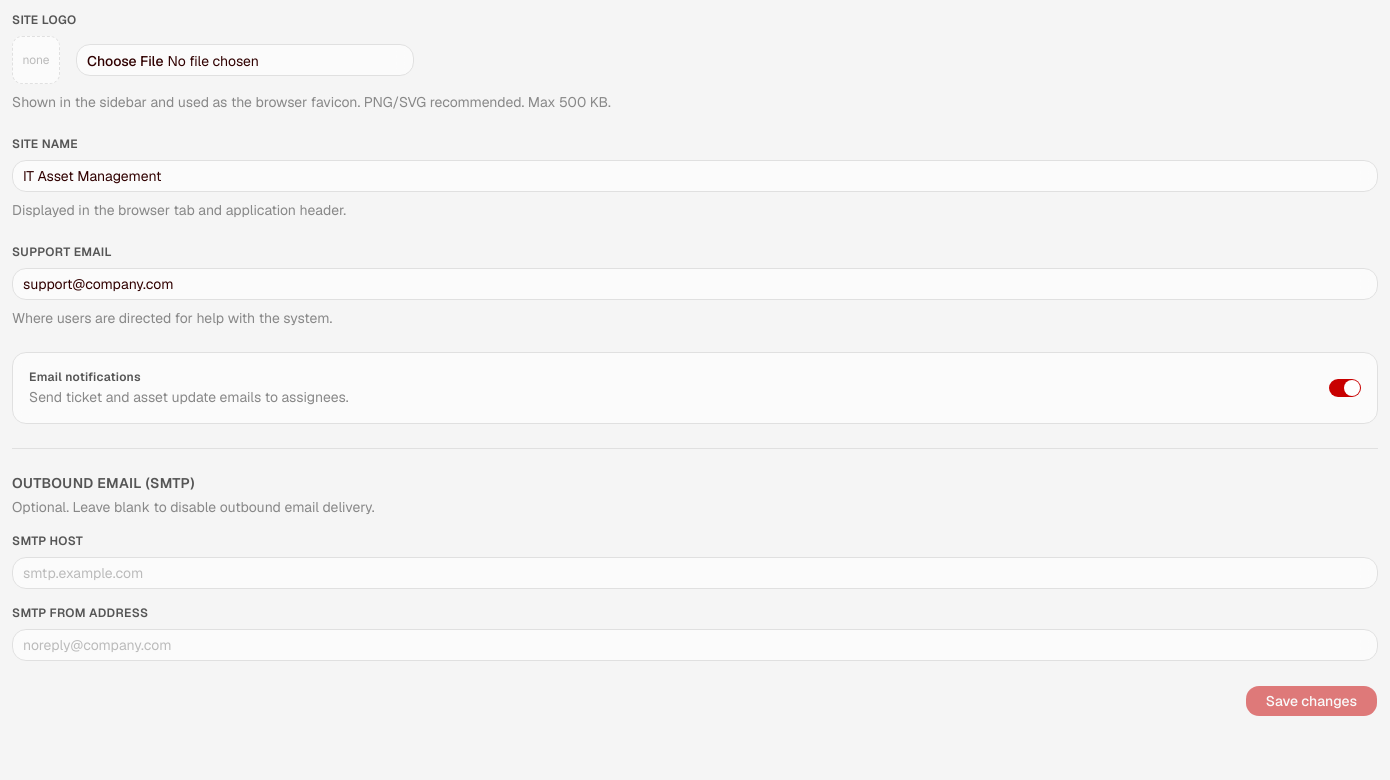
SettingsForm › disables the submit button until a field is changed
This screenshot has width=1390, height=780.
Expected: the button "Save changes" is disabled, left=1245, top=685, right=1378, bottom=717
Type "Updated" into the field labelled "Site name". click: (695, 176)
box: left=12, top=160, right=1378, bottom=192
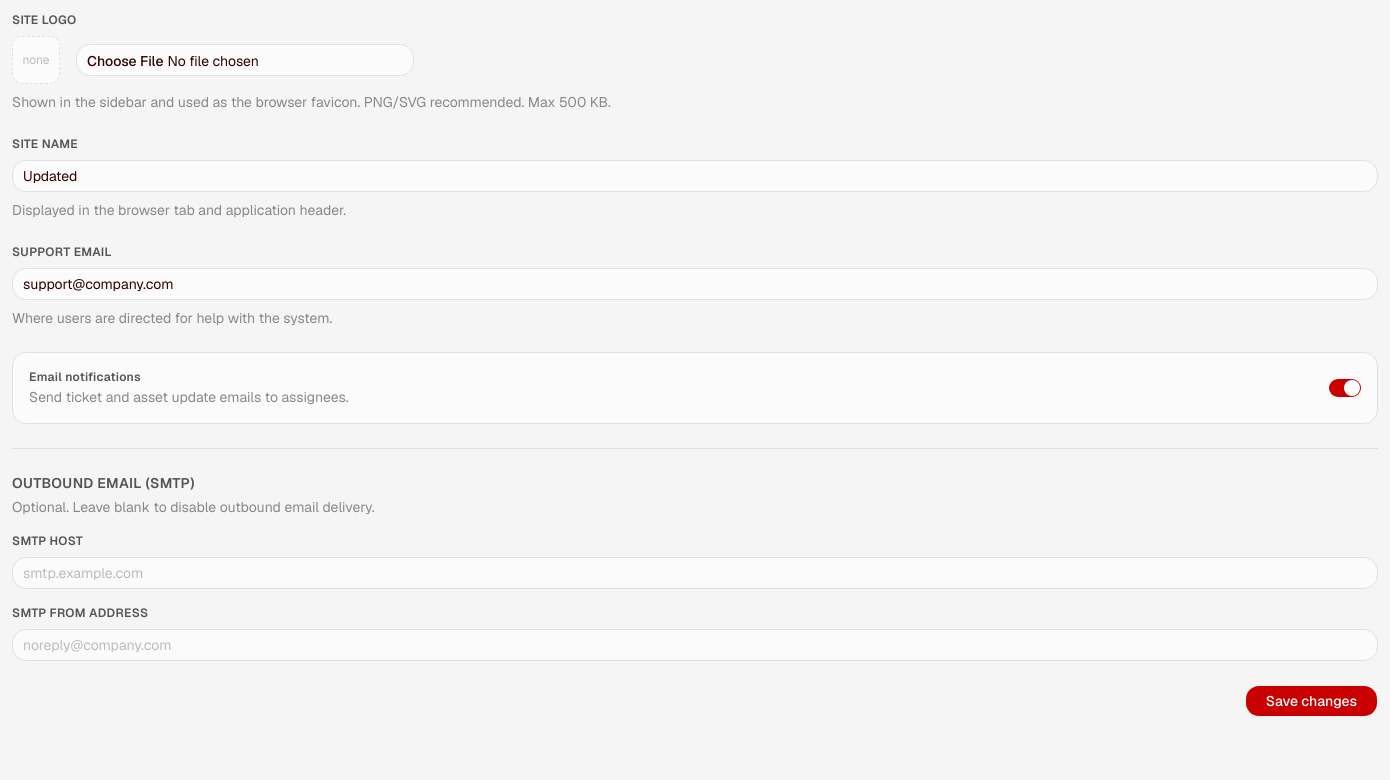
Expected: the button "Save changes" is enabled, left=1245, top=685, right=1378, bottom=717
